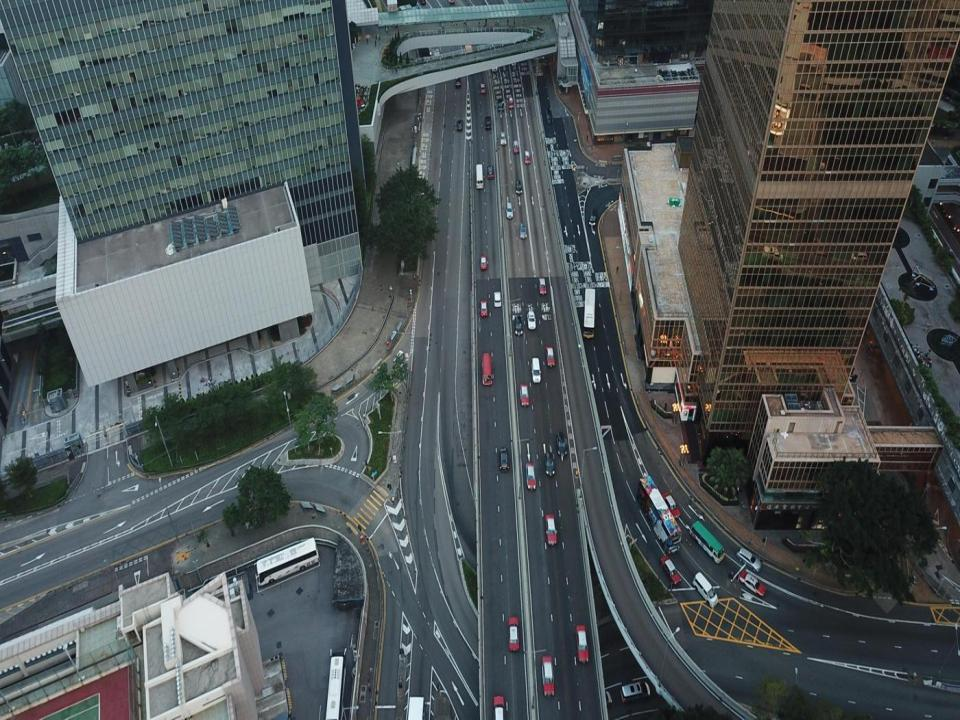bus: (636, 475, 681, 555), (254, 537, 320, 588), (325, 648, 347, 719), (689, 520, 724, 564), (584, 286, 595, 338), (482, 352, 493, 386), (476, 164, 484, 188)
car: (738, 572, 766, 597), (660, 555, 681, 584), (737, 546, 761, 571), (541, 655, 554, 697), (575, 624, 588, 663), (662, 492, 680, 519), (545, 514, 558, 545), (508, 616, 519, 650), (590, 691, 612, 705), (525, 462, 536, 489), (556, 431, 567, 457), (493, 696, 505, 719), (499, 446, 510, 471), (519, 382, 529, 407), (545, 451, 555, 476), (546, 346, 555, 366), (527, 311, 536, 329), (538, 277, 546, 294), (480, 300, 488, 317), (515, 316, 522, 335), (484, 115, 492, 130), (456, 118, 464, 132), (479, 255, 487, 269), (494, 291, 501, 307), (520, 223, 526, 239), (508, 96, 515, 109), (454, 74, 460, 89), (524, 150, 530, 164), (488, 165, 494, 179), (500, 132, 506, 145), (510, 54, 516, 67), (497, 99, 504, 110), (516, 179, 521, 194), (513, 140, 518, 153), (480, 82, 485, 93), (419, 0, 426, 5), (448, 0, 454, 5)
van: (692, 572, 718, 608), (620, 682, 651, 702), (531, 357, 541, 382), (588, 208, 596, 226), (505, 202, 513, 219), (546, 108, 552, 123), (491, 60, 498, 72)
